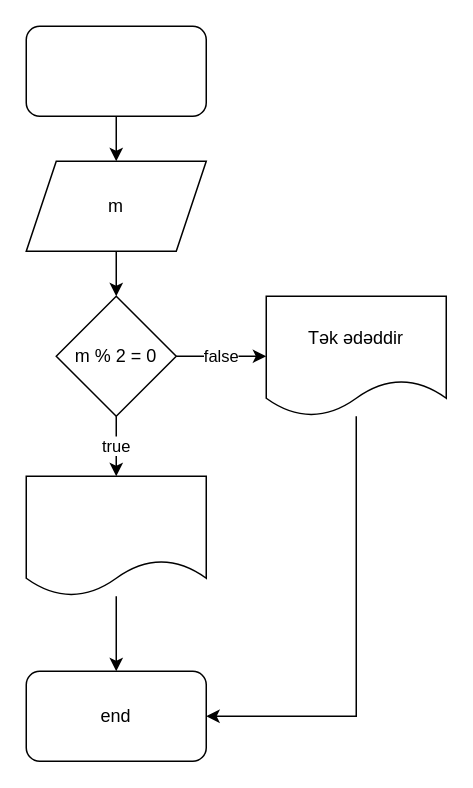
This 473x788 diagram has some shape labels left out. Each missing label, with the centre of its shape:
Cüt ədəddir: the point at 115,535
start: the point at 115,70
